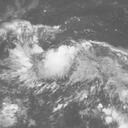cyclone: (41, 45, 71, 77)
